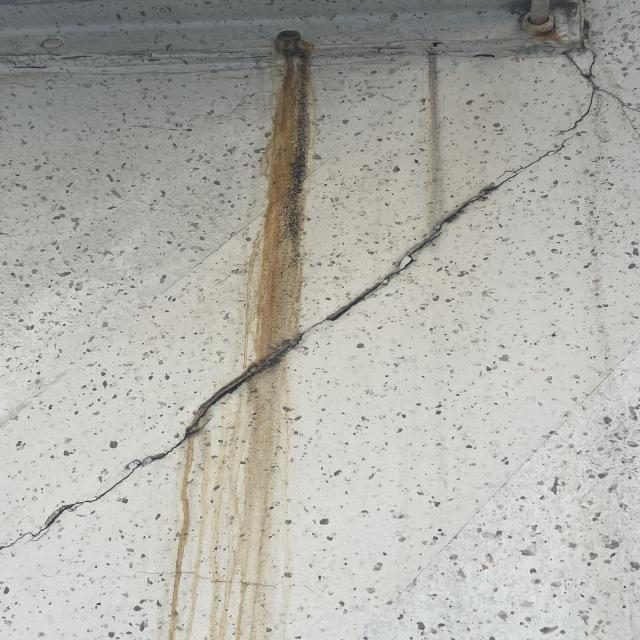crack: (25, 101, 626, 554)
